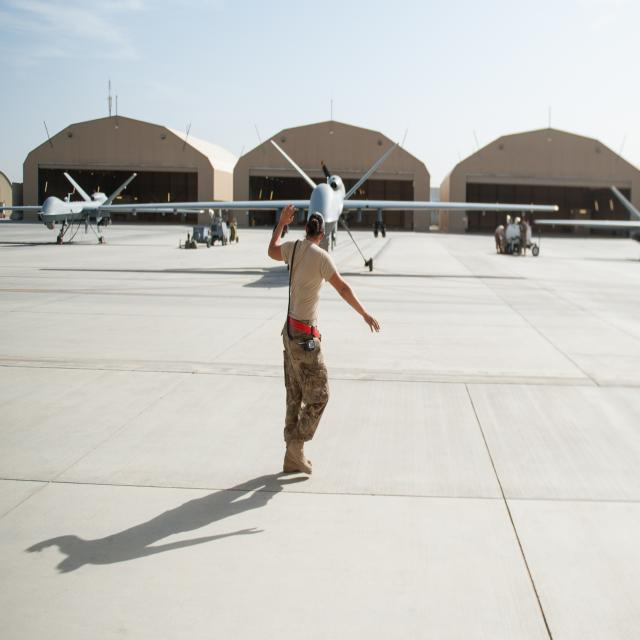MQ9: (176, 70, 569, 316), (3, 113, 158, 279)
